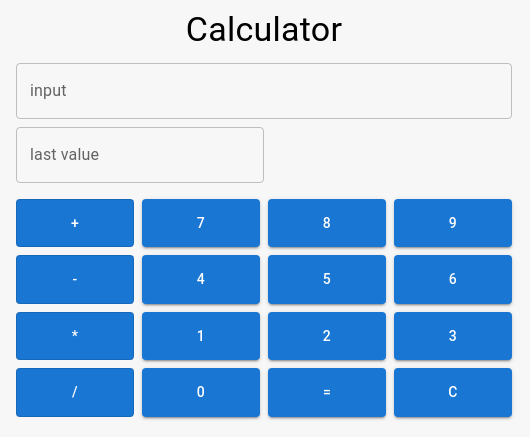
Test: App Component › performs subtraction
The image size is (530, 437).
Note: Input "7"
Step 1. Click the button "7" → (201, 223), box [142,199,260,247]
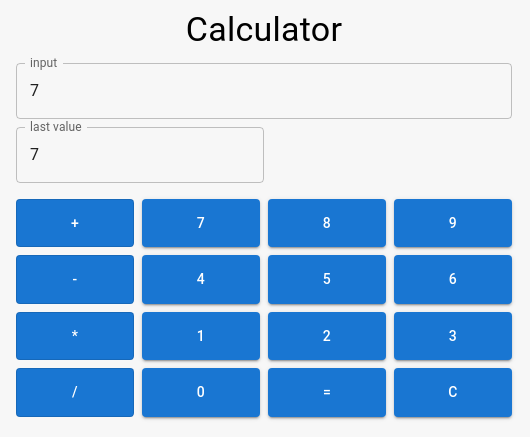
Note: Press subtraction operator (assuming accessible name "subtract")
Step 2. Click the button named "subtract" → (75, 280), box [16,255,134,304]
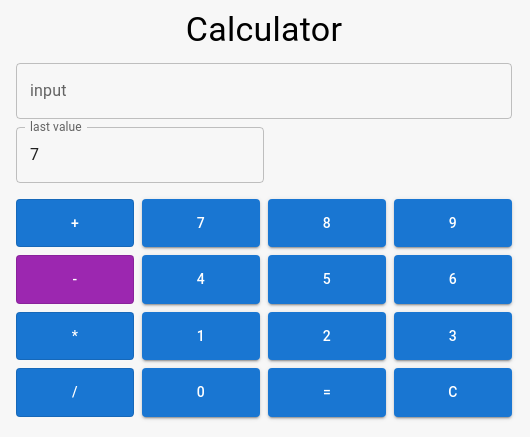
Note: Input "4"
Step 3. Click the button "4" → (201, 280), box [142,255,260,304]
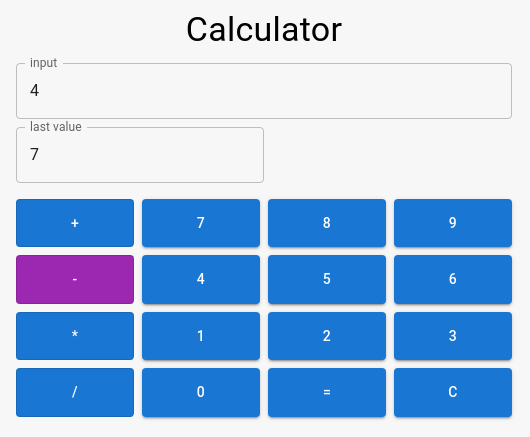
Step 4. Click the button "=" → (327, 393), box [268,368,386,417]
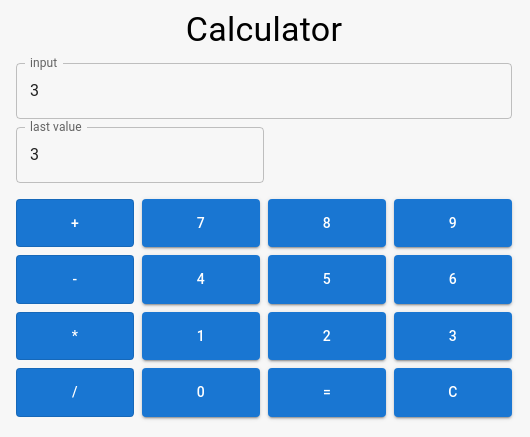
Expected: the field labelled "input" holds "3", [16,63,512,119]
